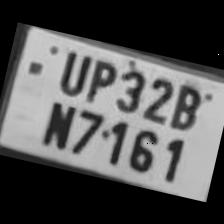1: (152, 128, 191, 185), (94, 110, 132, 166)
2: (138, 69, 178, 125)
3: (108, 58, 149, 114)
6: (121, 119, 164, 176)
7: (64, 102, 106, 160)
B: (164, 76, 206, 134)
N: (36, 92, 78, 149)
P: (80, 50, 121, 105)
U: (50, 42, 93, 98)
